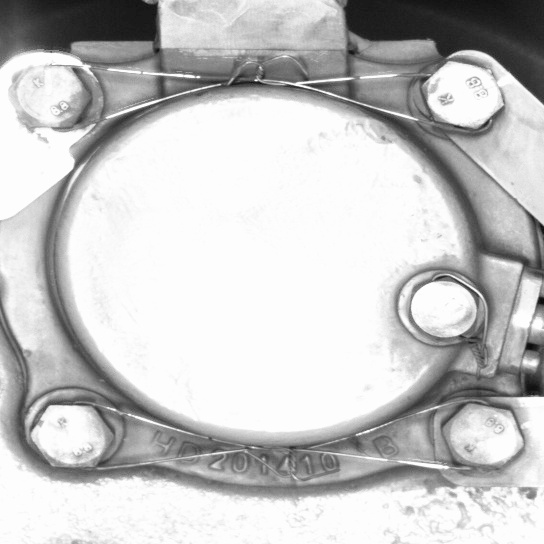IronWire: (7, 53, 511, 137), (24, 396, 530, 477)
Screw: (414, 54, 510, 136), (435, 396, 529, 476), (23, 397, 119, 474), (8, 60, 96, 132), (402, 272, 486, 343)
